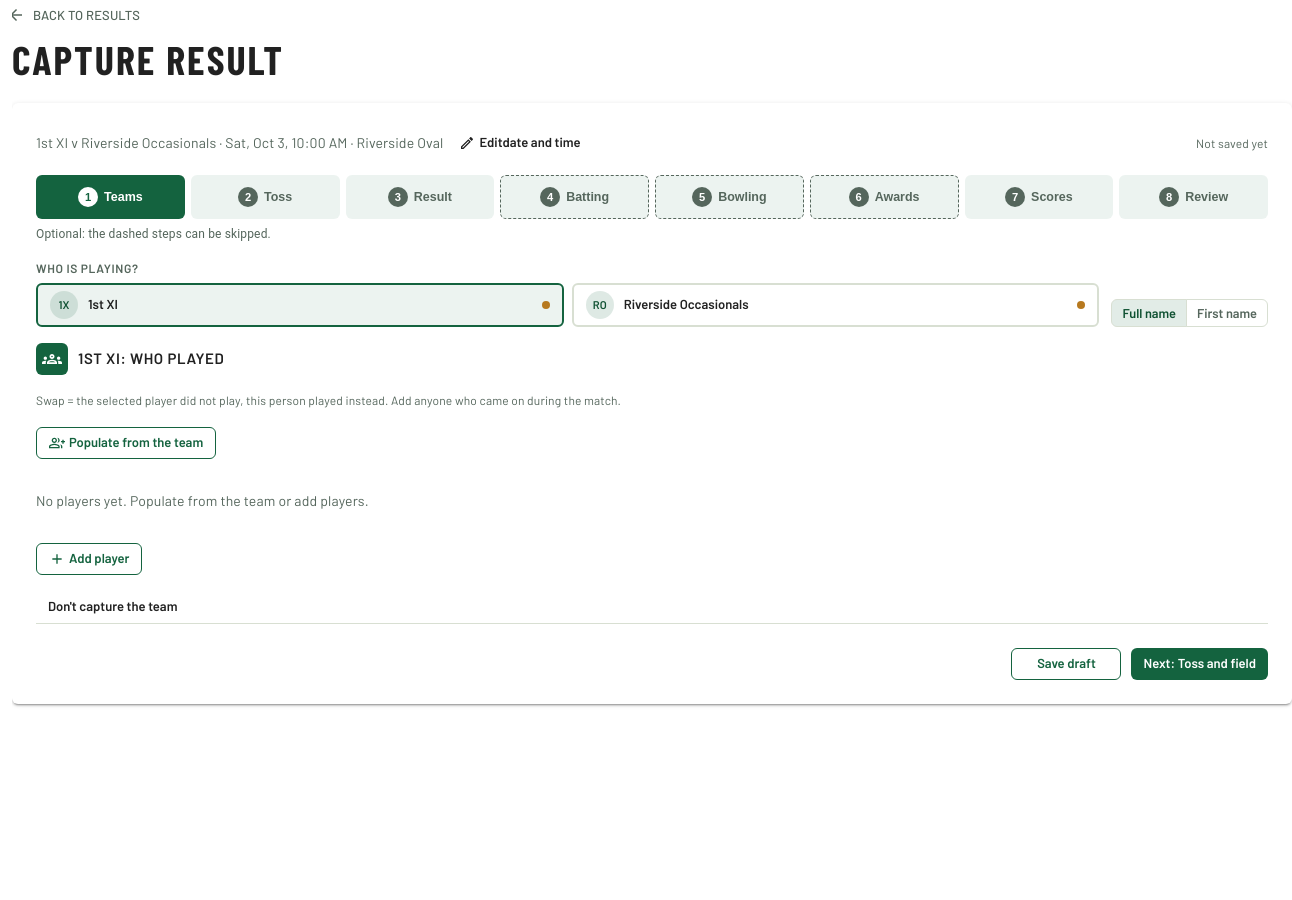
Test case: ResultCapturePage › shows the server problems when a save is refused and stays on the step
The image size is (1292, 900).
expect the heading "Capture result" is shown: met, box x1=12 y1=35 x2=284 y2=83
Click the button "3 Result" at {"x": 420, "y": 197}, box x1=346 y1=175 x2=494 y2=219
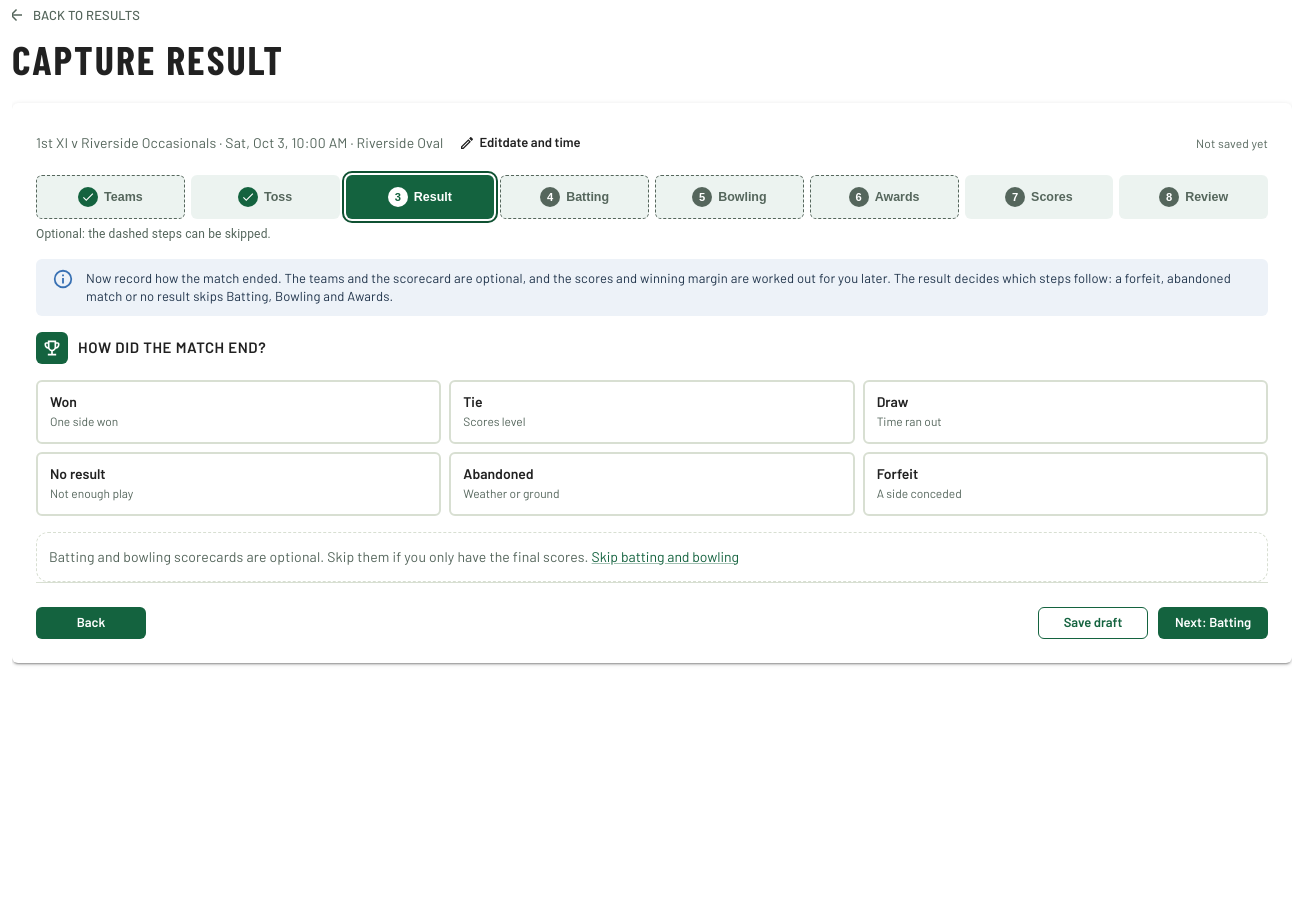
expect the heading "How did the match end?" is shown: met, box x1=78 y1=336 x2=266 y2=360
Click the radio button labelled "Won One side won" at {"x": 84, "y": 421}, box x1=36 y1=380 x2=441 y2=444
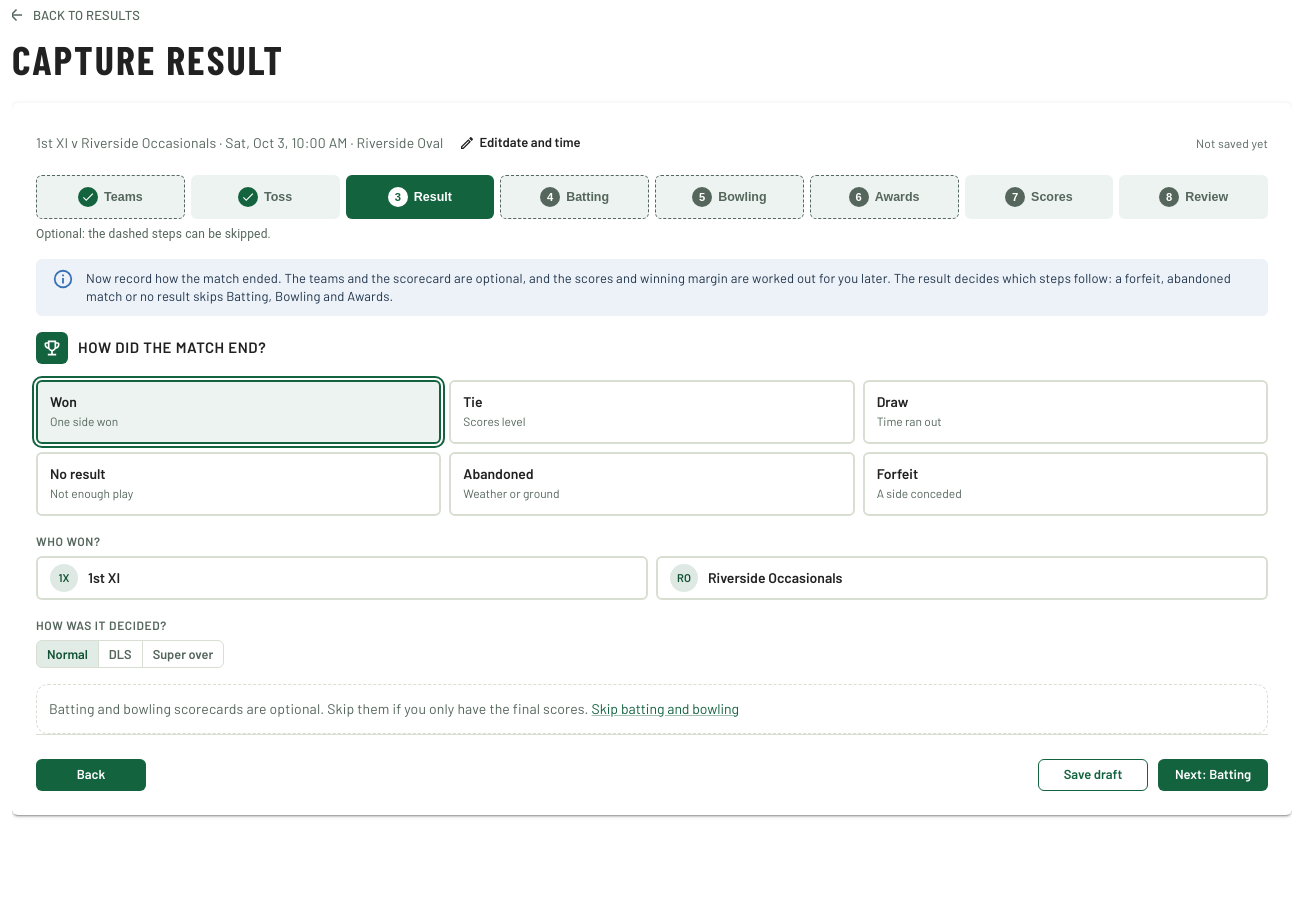
Click the button "Toss" at {"x": 265, "y": 197}, box x1=191 y1=175 x2=340 y2=219
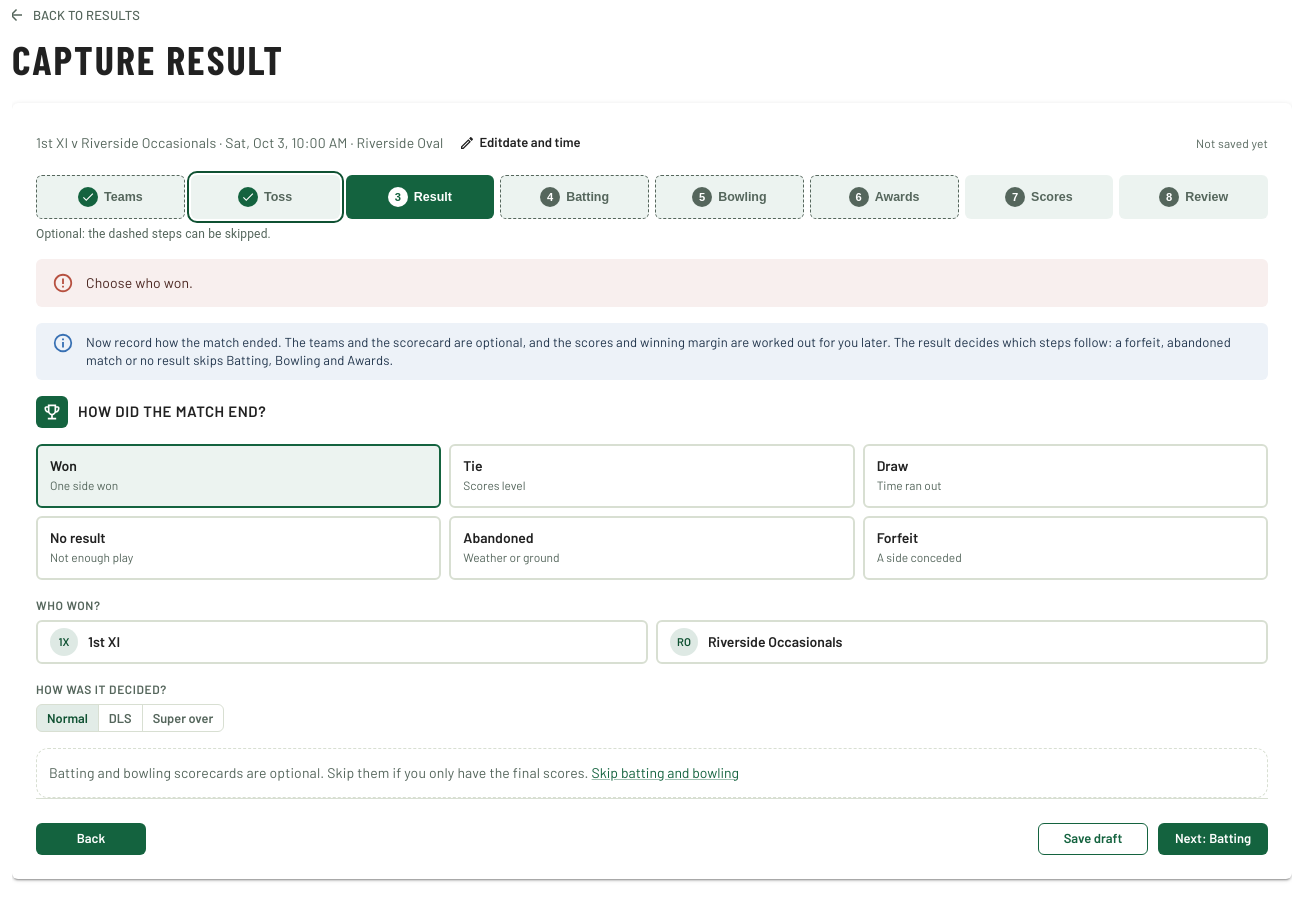
expect the text "Choose who won." is shown: met, box x1=86 y1=274 x2=193 y2=291
